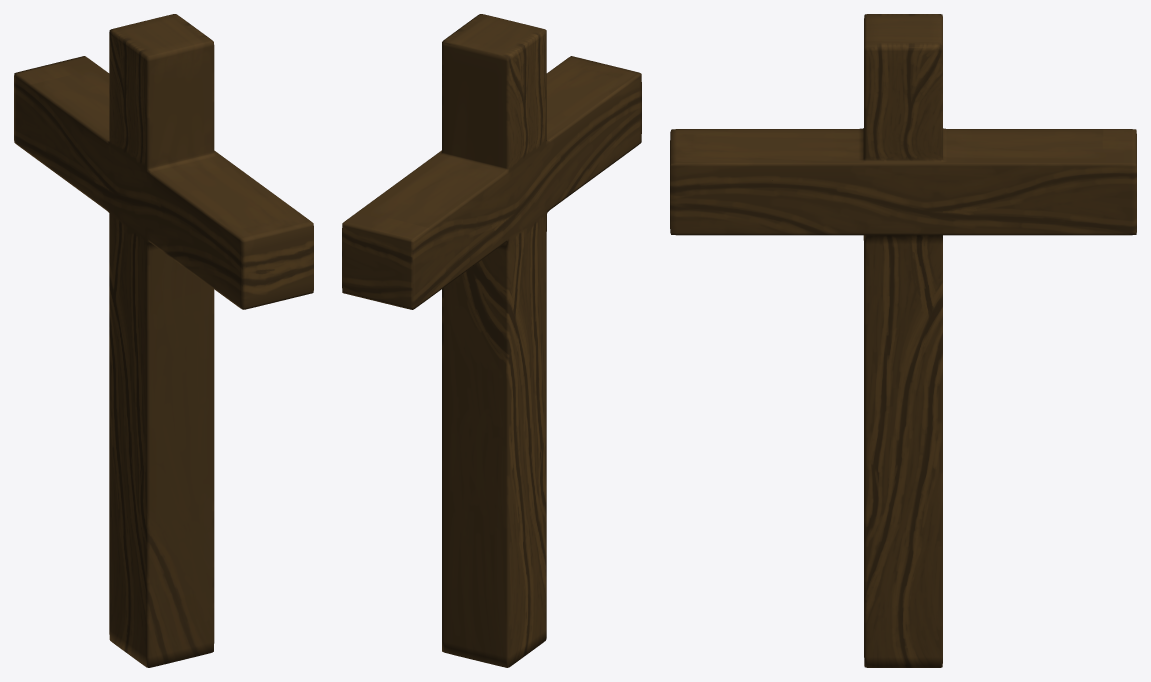
File: cruz.fbx
The picture shows the model from 3 angles, left to right: view 1: azimuth 30°, elevation 25°; view 2: azimuth 150°, elevation 25°; view 3: azimuth 270°, elevation 25°; orthographic projection.
Parts seen in each view (by area): view 1: Cube; view 2: Cube; view 3: Cube.
Part boxes in pixels (x1,y1,x2,y2): Cube: (14, 14, 313, 667); Cube: (342, 14, 641, 667); Cube: (670, 14, 1136, 667).
Size of the model in its own units: 213 by 1739 by 1181.
1 material, 1 textured.
